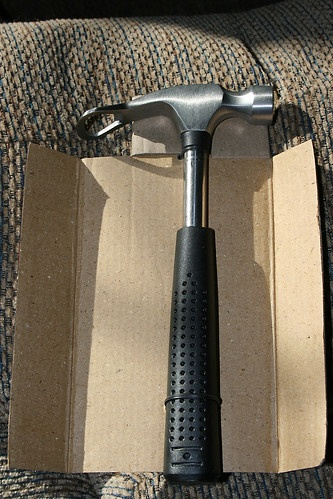hammer: (83, 75, 282, 487)
